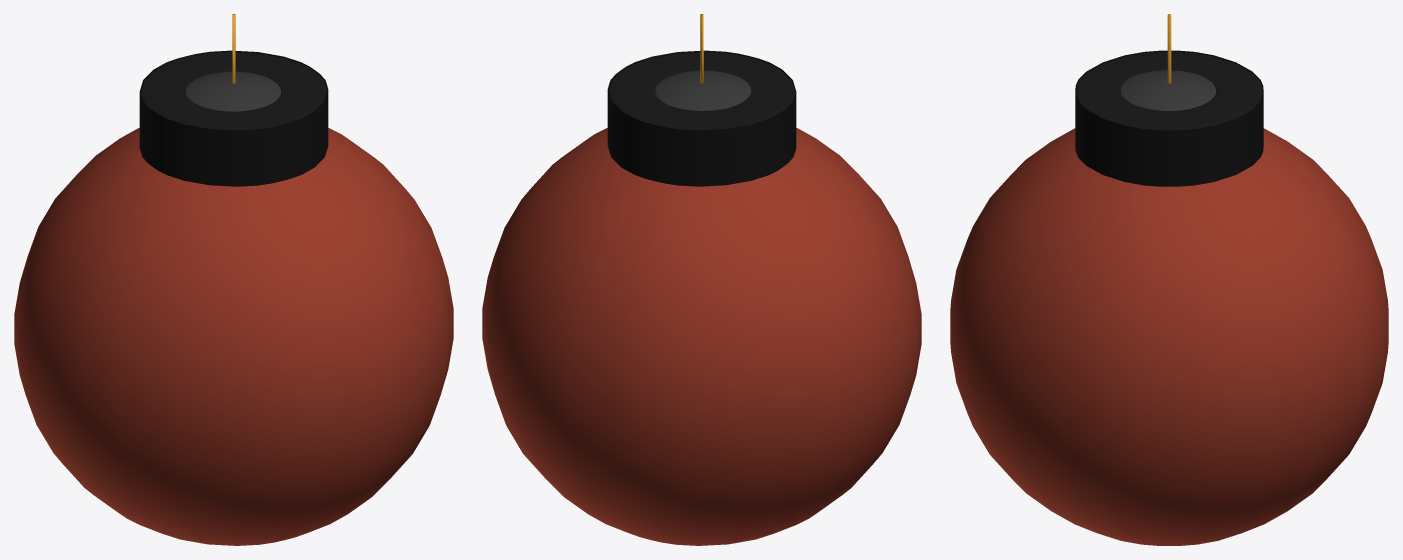
The model's file is bombe3.fbx.
3 views of the same model, side by side, from view 1: azimuth 30°, elevation 25°; view 2: azimuth 150°, elevation 25°; view 3: azimuth 270°, elevation 25° (orthographic).
Visible parts, largest first — view 1: SurfSphere; view 2: SurfSphere; view 3: SurfSphere.
Boxes of the visible parts, <box> form: SurfSphere: <box>14,14,453,545</box>; SurfSphere: <box>482,14,921,545</box>; SurfSphere: <box>950,14,1388,545</box>.
Size of the model in its own units: 2.53 by 3.25 by 2.53.
